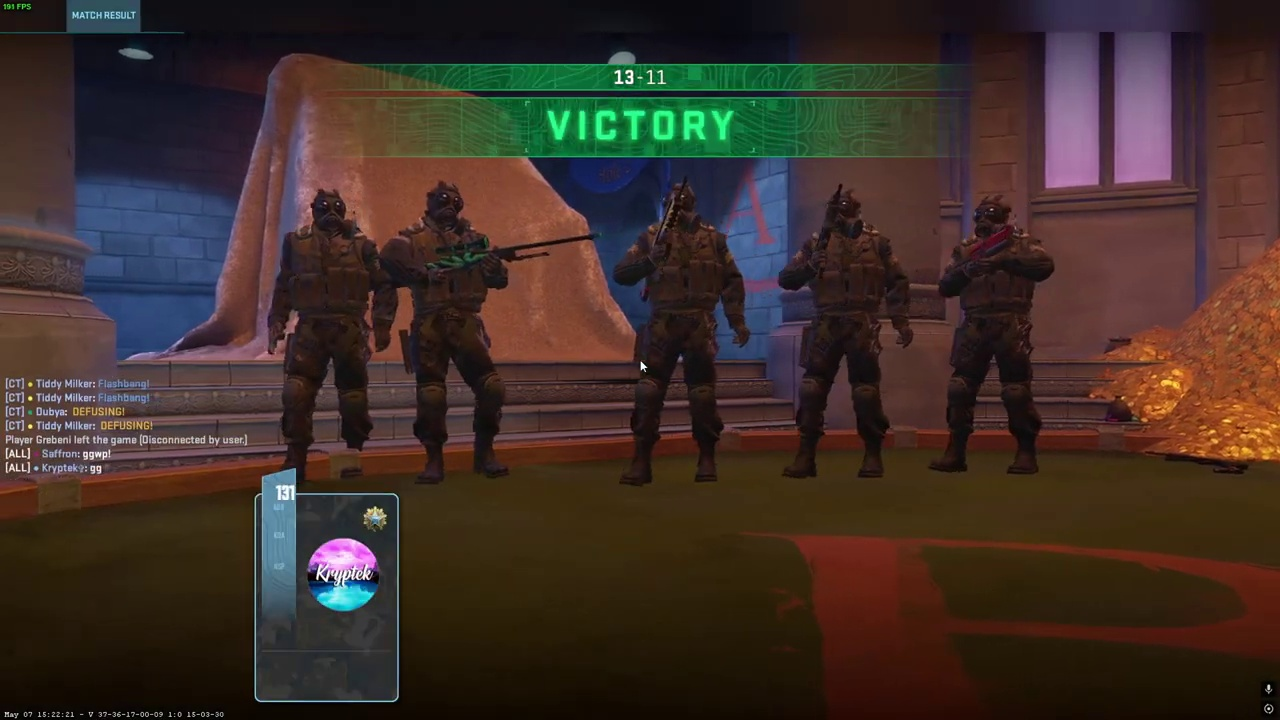CT: (392, 181, 513, 482), (621, 181, 737, 485), (785, 186, 902, 480), (273, 186, 383, 484), (939, 193, 1053, 473)
